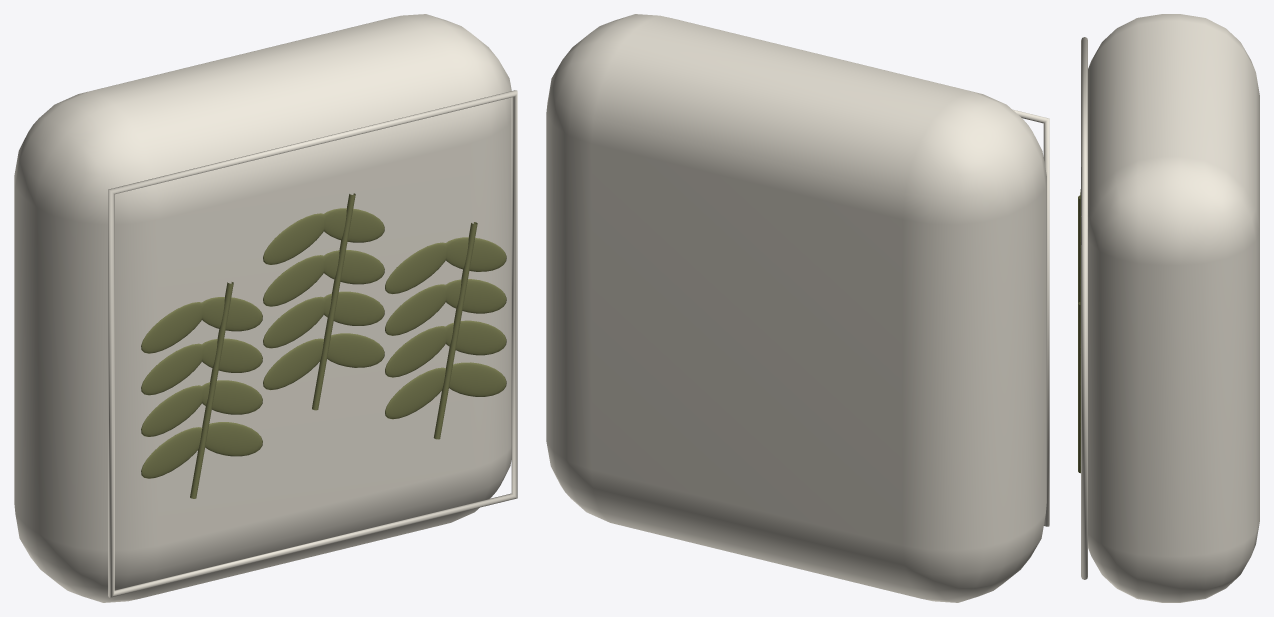
File: wh-palm-trees-printed-cushion.glb
3 views of the same model, side by side, from view 1: azimuth 30°, elevation 25°; view 2: azimuth 150°, elevation 25°; view 3: azimuth 270°, elevation 25° (orthographic). The views are drawn at different scales.
Parts seen in each view (by area): view 1: Soft cushion.005, Botanical printed stem.006; view 2: Soft cushion.005; view 3: Soft cushion.005, Botanical printed stem.006.
Boxes of the visible parts, left/top/right/bottom form: Soft cushion.005: left=14, top=14, right=517, bottom=602; Botanical printed stem.006: left=141, top=193, right=506, bottom=498; Soft cushion.005: left=546, top=14, right=1049, bottom=602; Soft cushion.005: left=1081, top=14, right=1259, bottom=602; Botanical printed stem.006: left=1078, top=189, right=1080, bottom=473.
Size of the model in its own units: 0.4 by 0.4 by 0.15.
